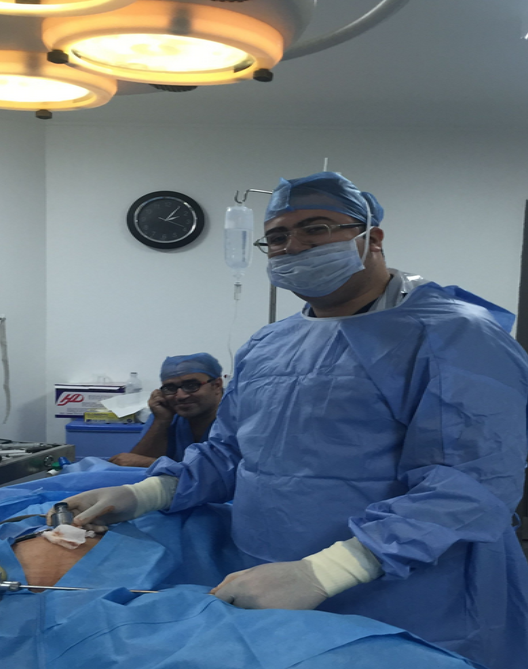mask_weared_incorrect: (246, 176, 384, 302)
